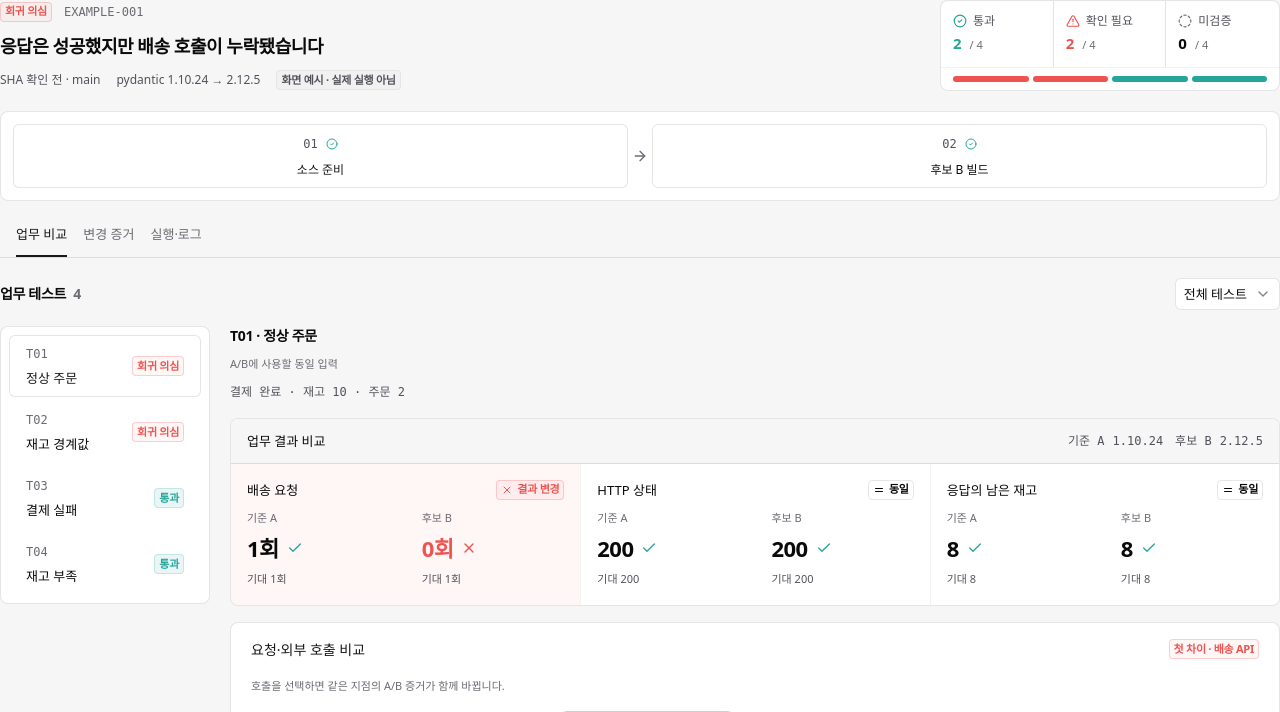
Scenario: shows completed stages in order and opens the selected stage log
The image size is (1280, 712).
Click the tab "실행·로그" at (176, 241), box [150,225,202,256]
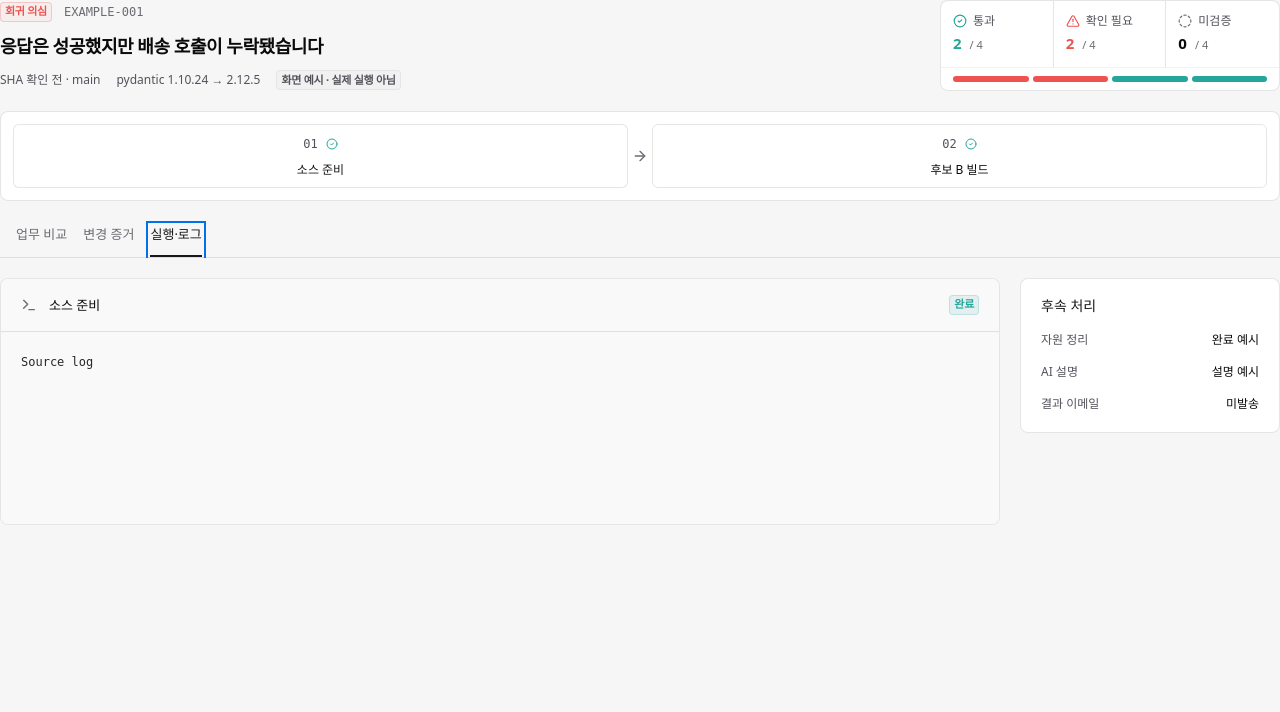
expect the text "Source log" is shown: met, box [1,332,999,524]
Click the button "02 후보 B 빌드" at (959, 170), box [652,124,1267,188]
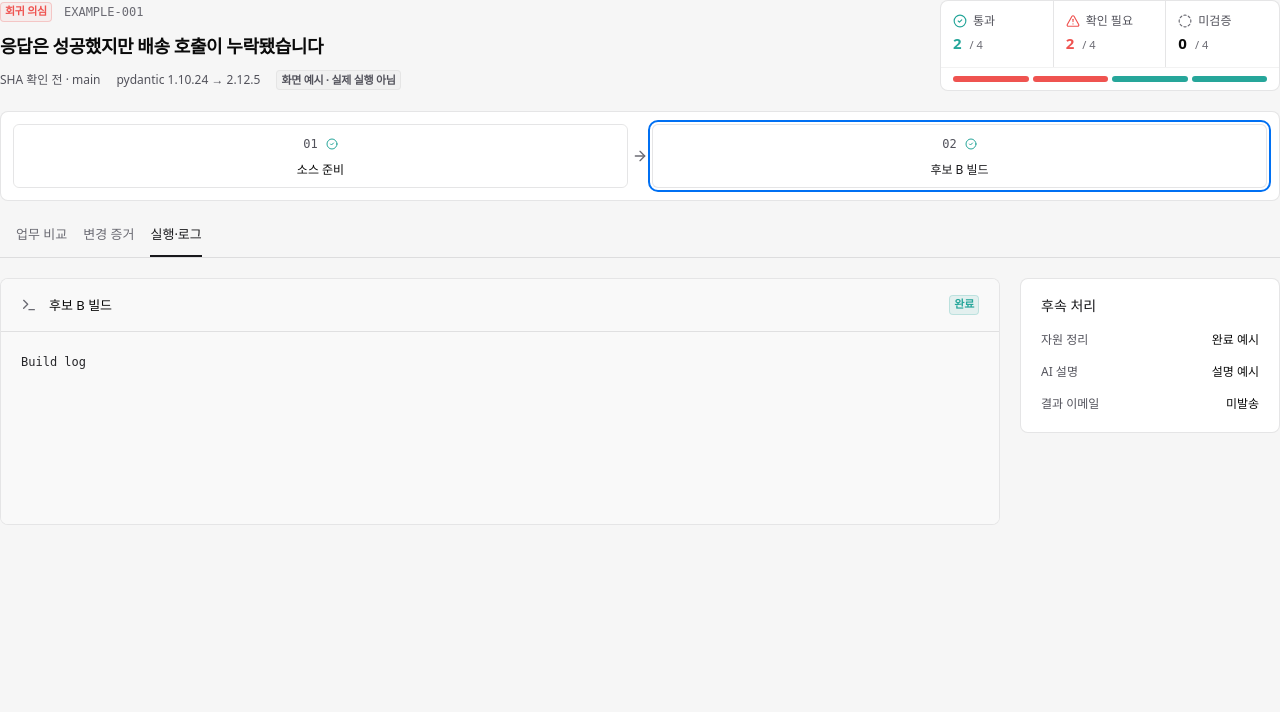
expect the text "Build log" is shown: met, box [1,332,999,524]
